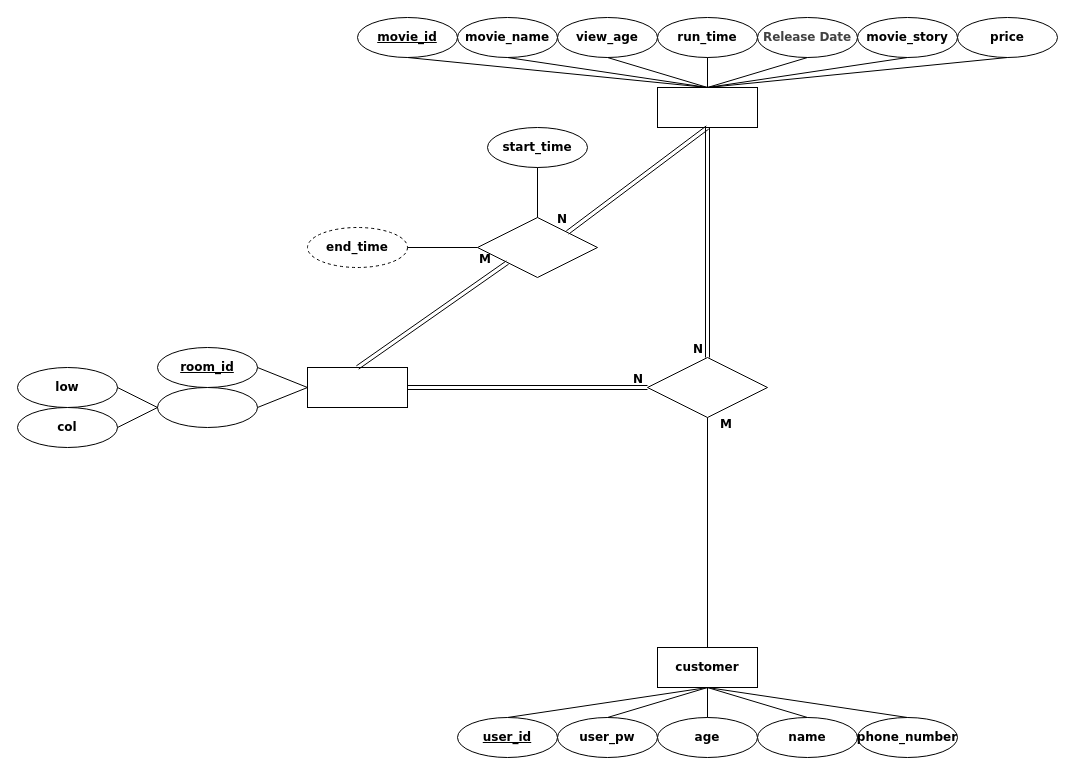
Some shapes in this 1075 by 775 pixel diagram are drawn without their labels. Each missing label, with the box of its shape:
movie: (656, 86, 758, 128)
reserve: (646, 356, 768, 418)
room: (306, 366, 408, 408)
Screening: (476, 216, 598, 278)
seat_num: (156, 386, 258, 428)
